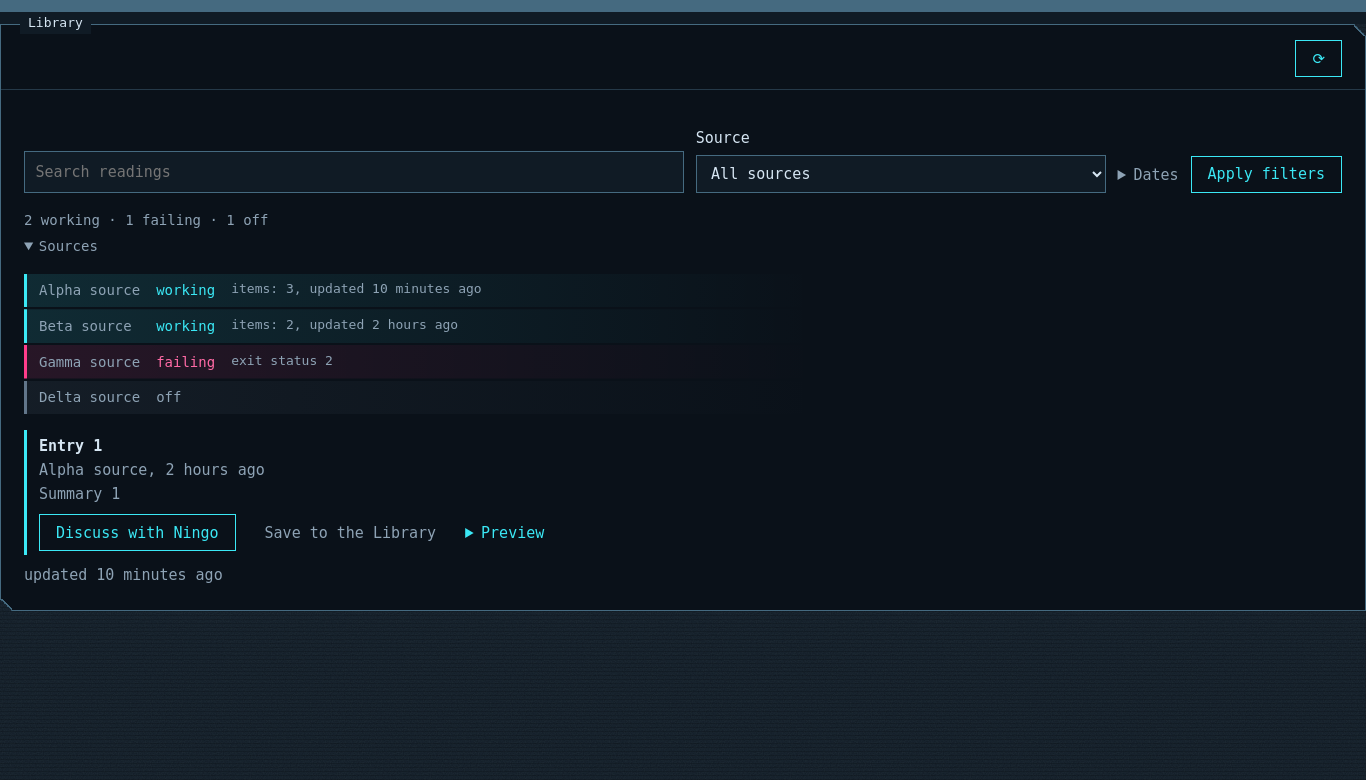
Scenario: the digest card › asks again for both when refreshed
Expected: the text "Entry 1" is shown, [39, 437, 102, 455]
Click the button named "Refresh" at x=1319, y=59, box [1295, 40, 1342, 77]
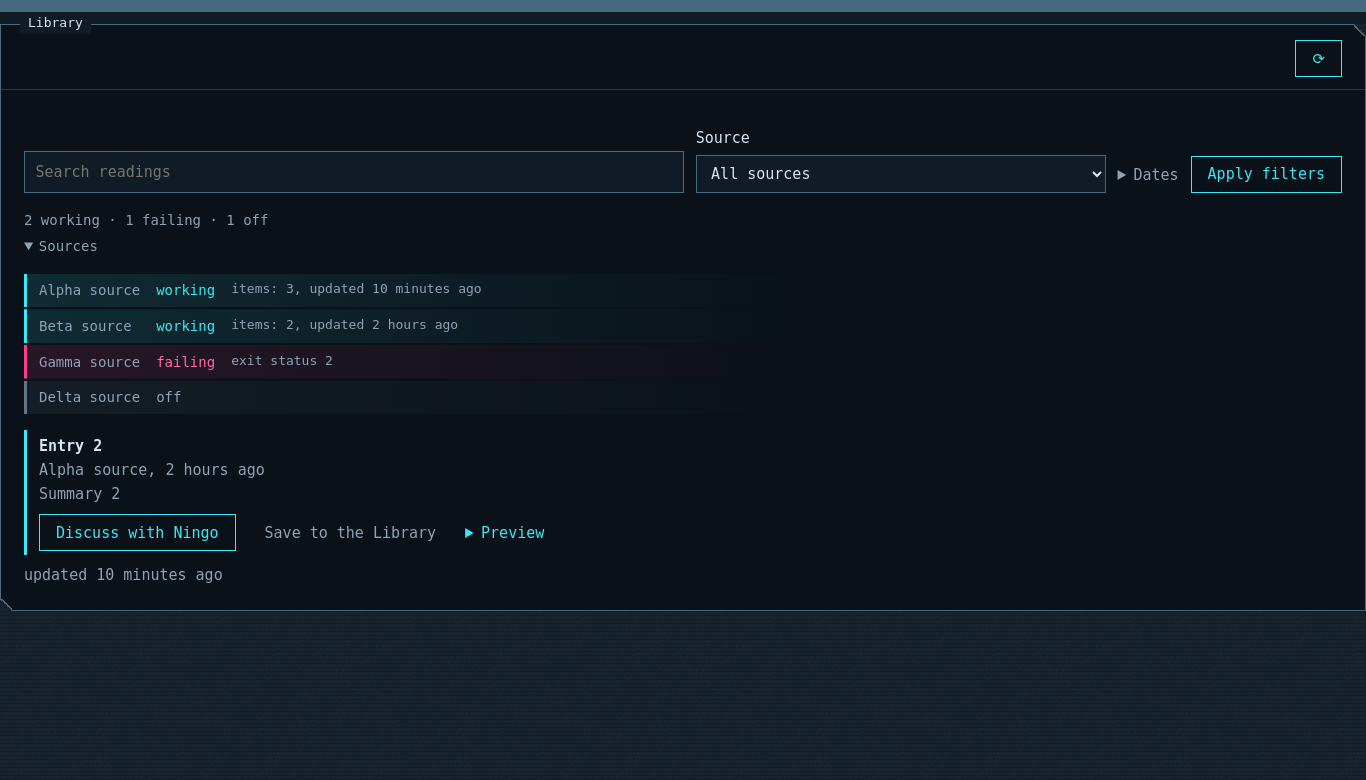
Result: the text "Entry 2" is shown at [39, 437, 102, 455]
